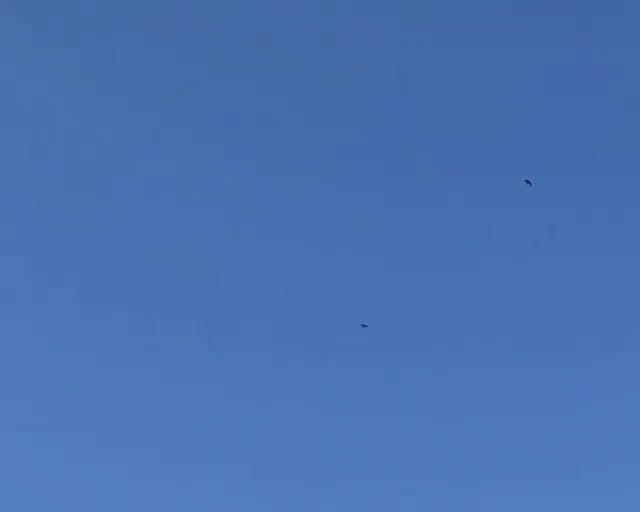BIRD: (524, 178, 533, 187)
